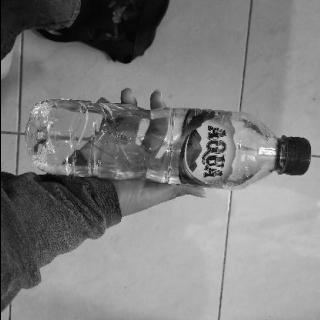plastic_bottles: (26, 97, 312, 189)
